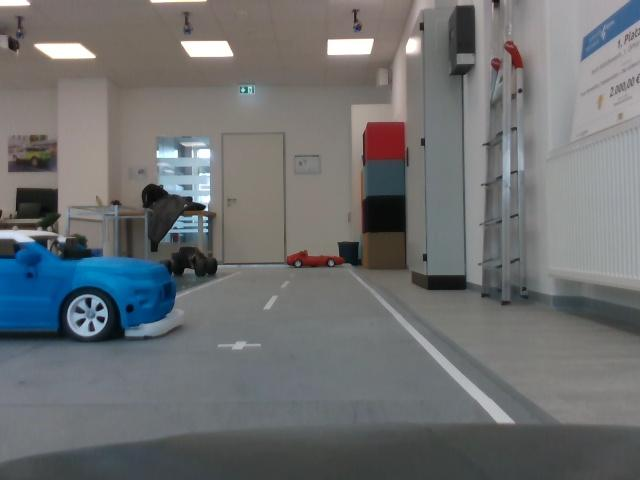car: (1, 226, 193, 349), (158, 241, 221, 281), (283, 247, 350, 273)
